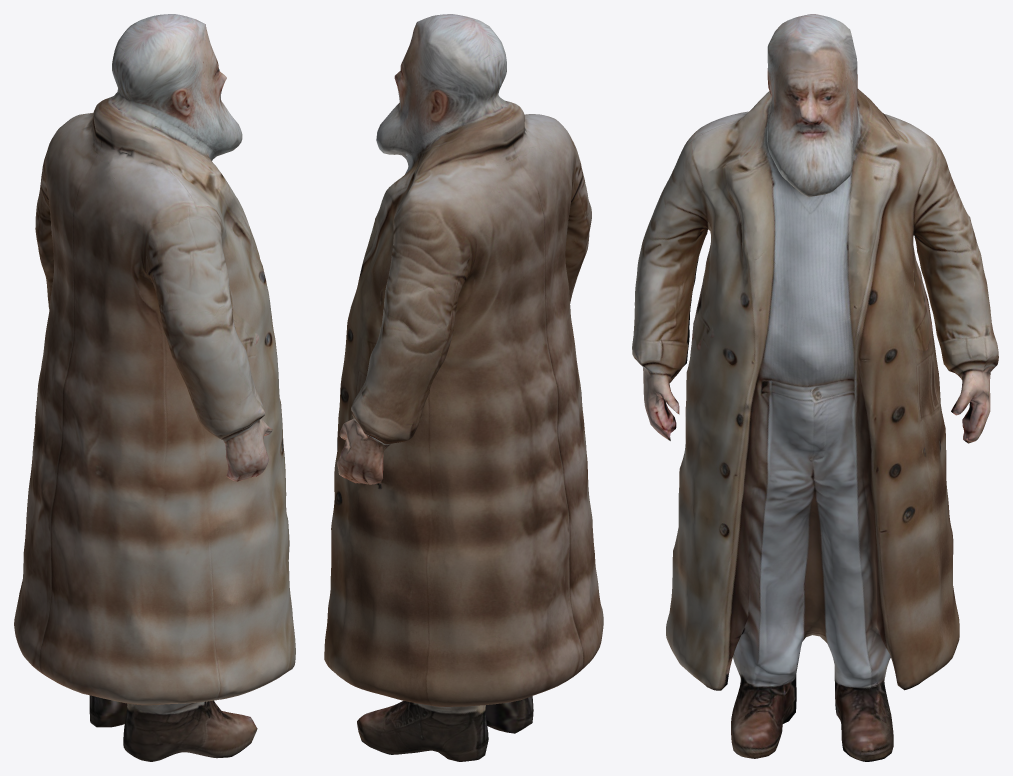
The model's file is old_man_02.fbx.
The picture shows the model from 3 angles, left to right: view 1: azimuth 30°, elevation 25°; view 2: azimuth 150°, elevation 25°; view 3: azimuth 270°, elevation 25°; orthographic projection.
Parts seen in each view (by area): view 1: Mesh_0; view 2: Mesh_0; view 3: Mesh_0.
Boxes of the visible parts, x1,y1,x2,y2 form: Mesh_0: (14,14,295,761); Mesh_0: (324,14,603,761); Mesh_0: (632,14,998,761).
Bounding box in the file's own units: 36.79 × 120 × 55.56.
